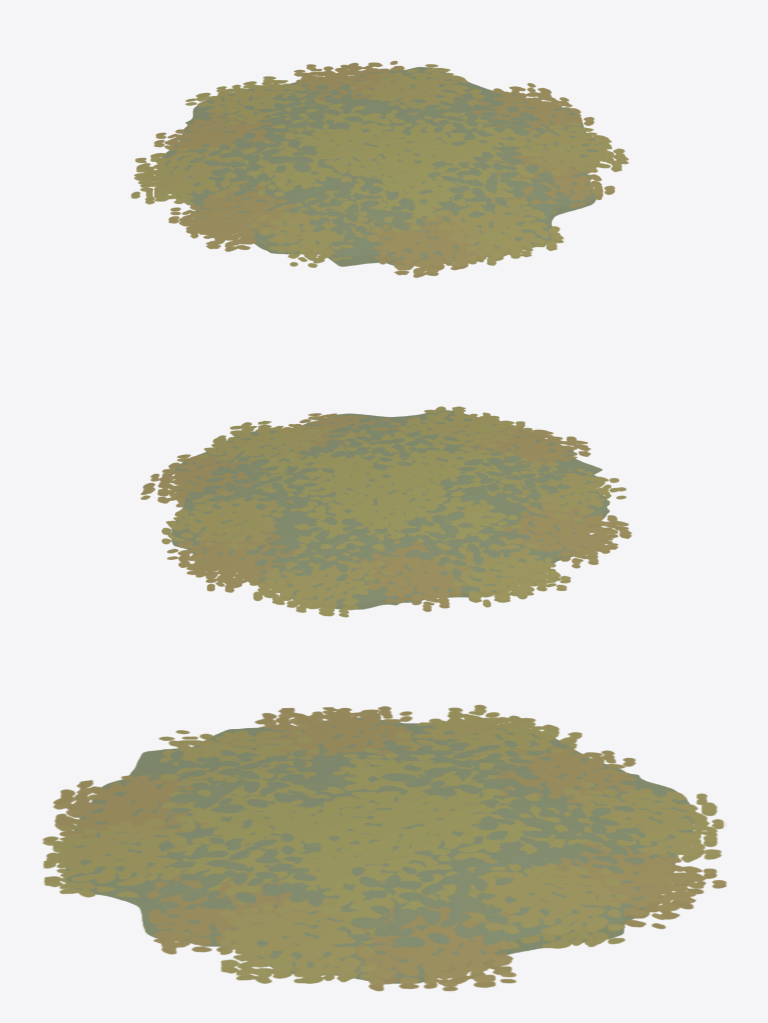
File: EN_grass_ground_decal.gltf
The picture shows the model from 3 angles, top to bottom: view 1: azimuth 30°, elevation 25°; view 2: azimuth 150°, elevation 25°; view 3: azimuth 270°, elevation 25°; orthographic projection. The views are drawn at different scales.
Visible parts, largest first — view 1: EN_grass_floor_decal_voulme, EN_grass_floor_decal_flat; view 2: EN_grass_floor_decal_voulme, EN_grass_floor_decal_flat; view 3: EN_grass_floor_decal_voulme, EN_grass_floor_decal_flat.
Part boxes in pixels (left/top/right/bottom): EN_grass_floor_decal_voulme: left=131, top=61, right=628, bottom=274; EN_grass_floor_decal_flat: left=131, top=67, right=628, bottom=277; EN_grass_floor_decal_voulme: left=140, top=406, right=631, bottom=614; EN_grass_floor_decal_flat: left=140, top=410, right=631, bottom=617; EN_grass_floor_decal_voulme: left=42, top=704, right=726, bottom=987; EN_grass_floor_decal_flat: left=42, top=708, right=726, bottom=991.
Size of the model in its own units: 2.16 by 0.0793 by 2.16.
1 material, 1 textured.
